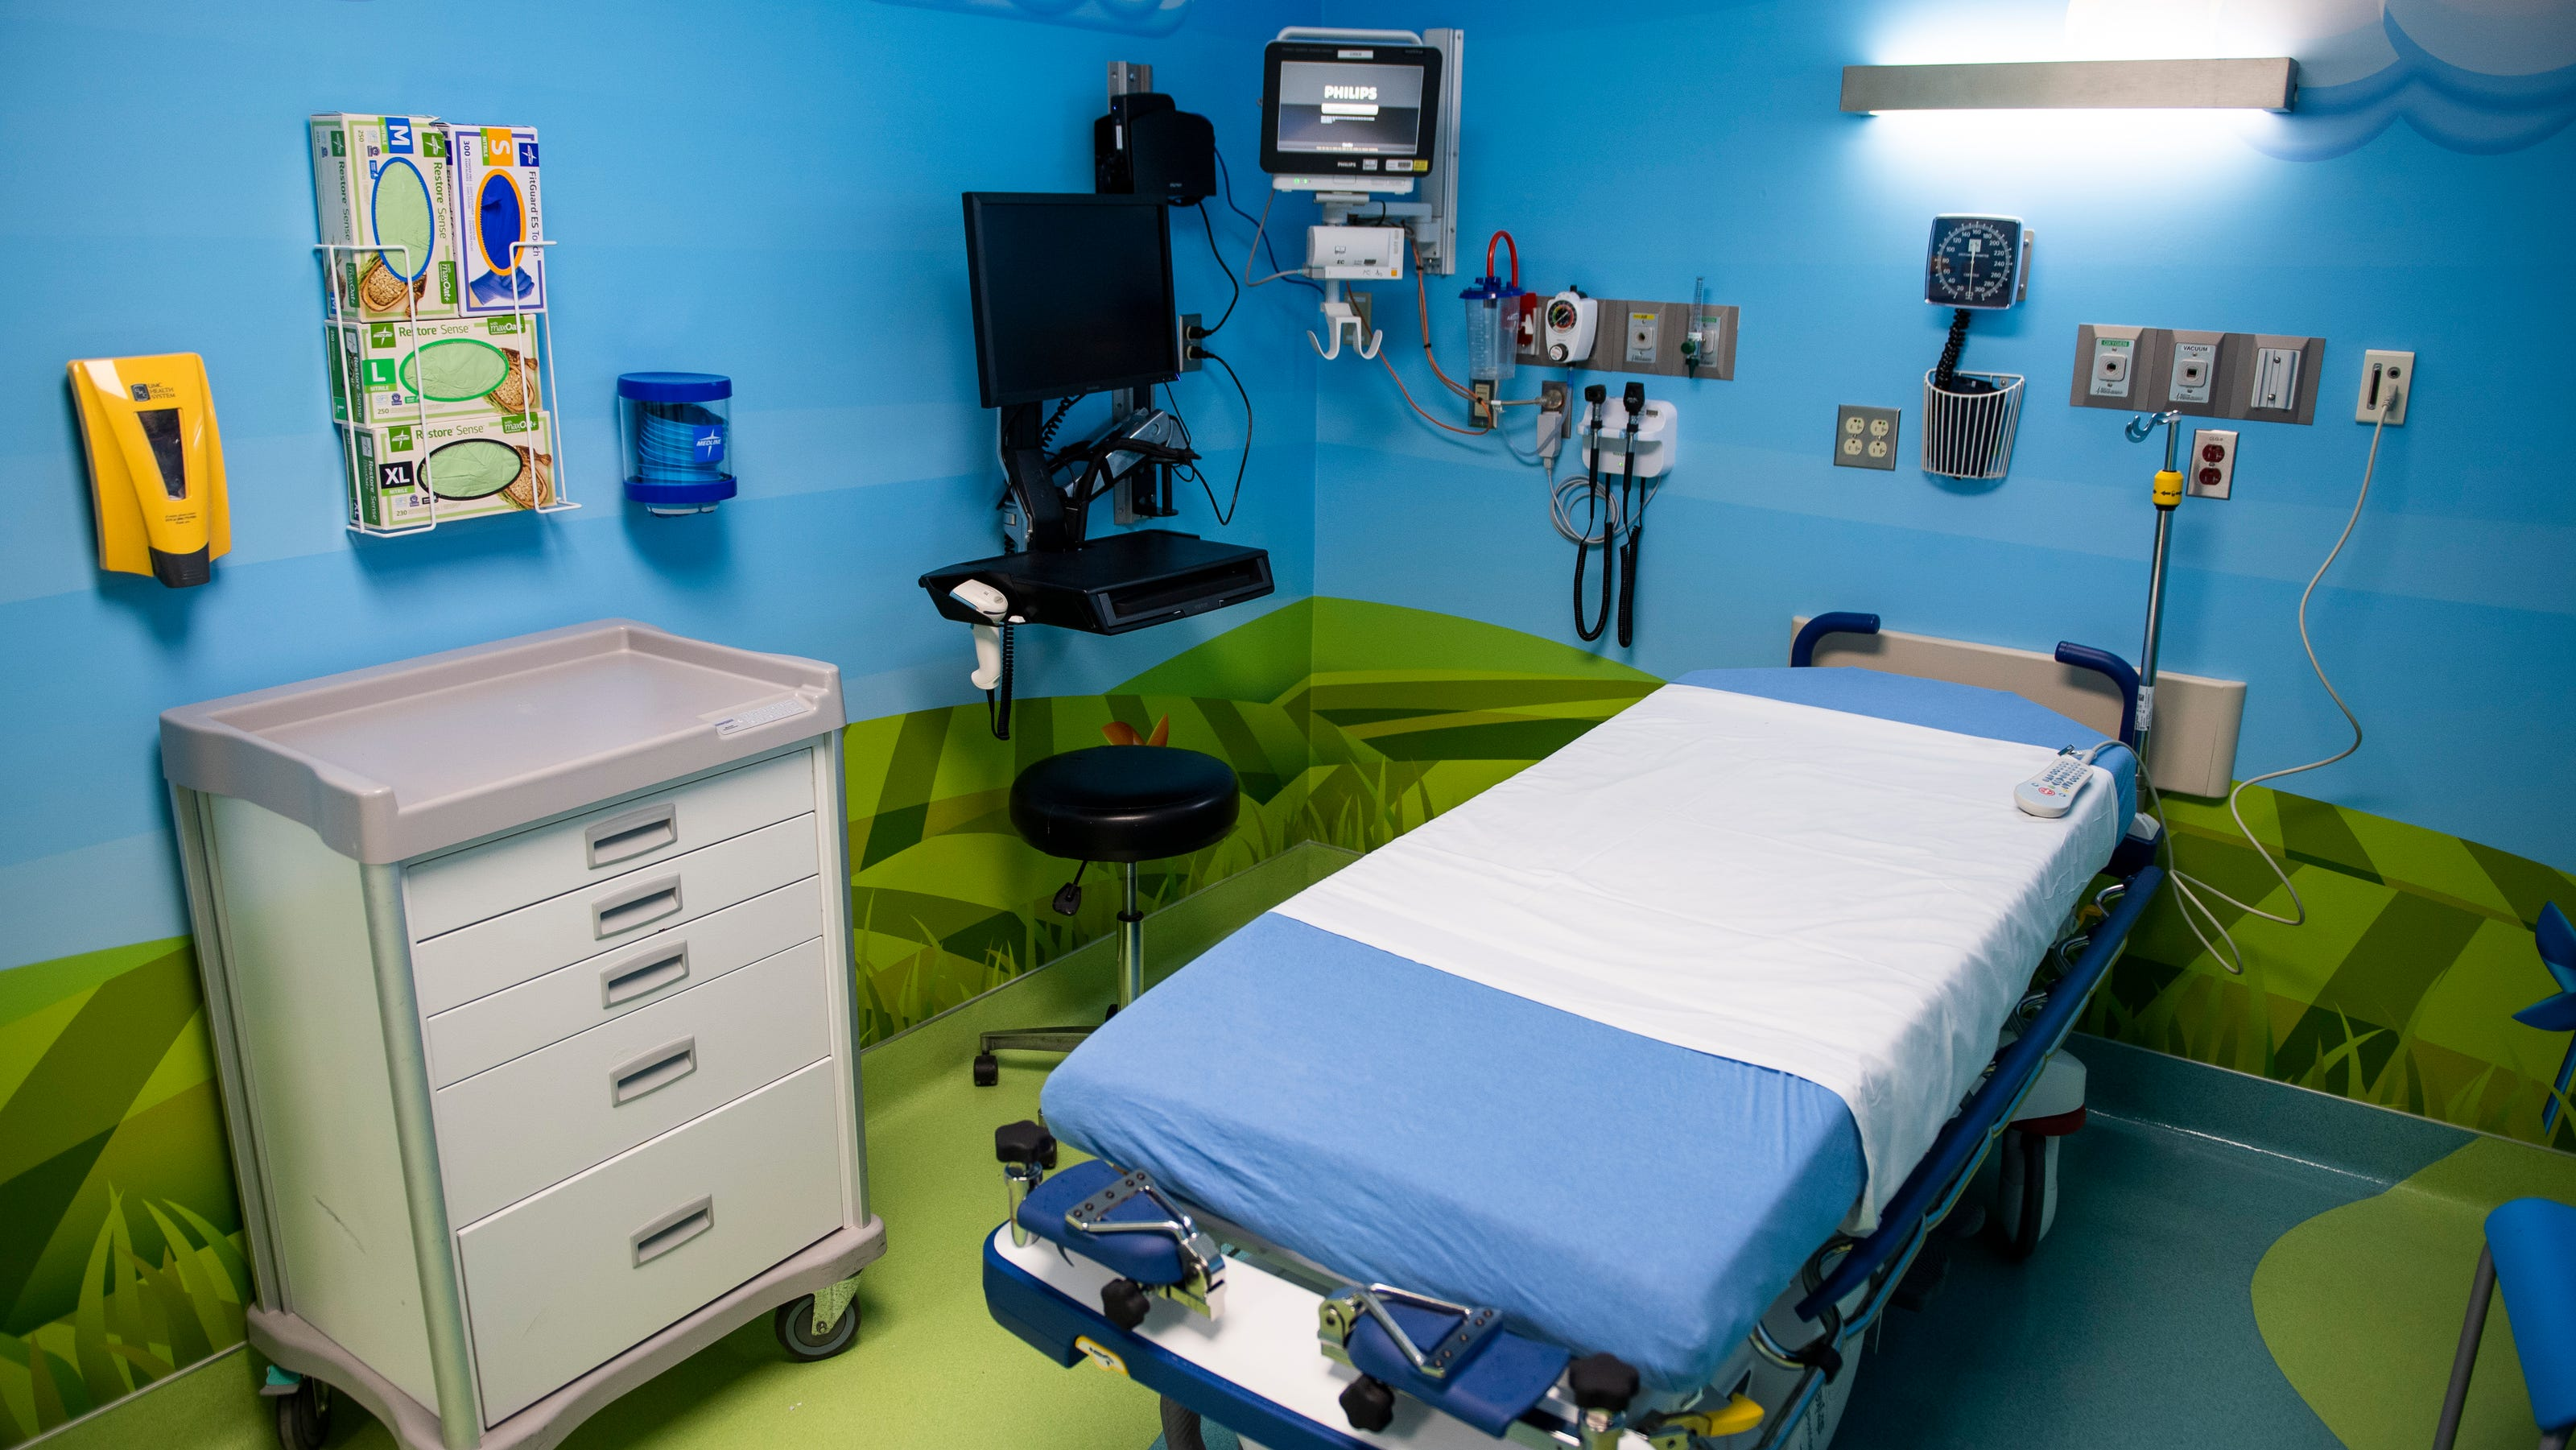bedside_monitor: (1261, 53, 1440, 181)
chair: (968, 740, 1237, 1094), (2427, 1202, 2576, 1450)
computer: (913, 182, 1279, 641)
dispenser: (311, 106, 577, 542), (37, 351, 265, 591)
exam_table: (975, 609, 2178, 1434)
handle: (596, 938, 704, 1020), (609, 1032, 702, 1115), (579, 802, 688, 871), (632, 1190, 717, 1275), (596, 891, 695, 937)
iv_pole: (2125, 411, 2183, 811)
medical_drawer: (156, 616, 893, 1450)
